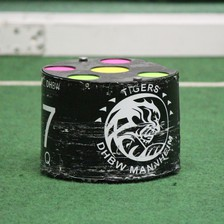robot: (38, 52, 183, 185)
